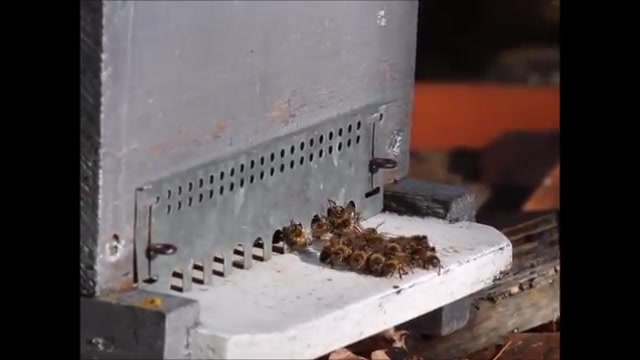bee: (332, 208, 360, 232), (286, 228, 312, 250), (414, 250, 443, 269), (350, 248, 370, 270), (370, 252, 388, 275), (386, 260, 401, 280), (337, 241, 350, 264)
